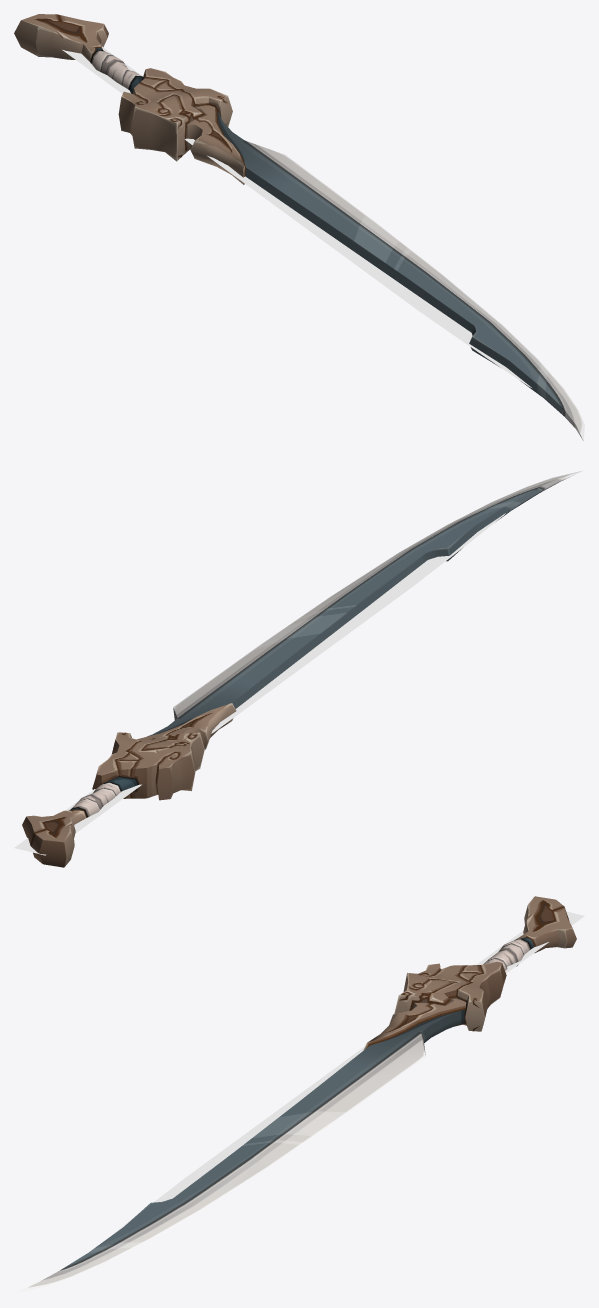
File: Equip_Sword_Sashimi.fbx
The picture shows the model from 3 angles, top to bottom: view 1: azimuth 30°, elevation 25°; view 2: azimuth 150°, elevation 25°; view 3: azimuth 330°, elevation 25°; orthographic projection. The views are drawn at different scales.
Visible parts, largest first — view 1: Equip_Sword_Sashimi_Model, Equip_Sword_Sashimi_Effect; view 2: Equip_Sword_Sashimi_Model, Equip_Sword_Sashimi_Effect; view 3: Equip_Sword_Sashimi_Model, Equip_Sword_Sashimi_Effect.
Part boxes in pixels (box(x1,y1,x2,y2)): Equip_Sword_Sashimi_Model: box(14, 14, 584, 441); Equip_Sword_Sashimi_Effect: box(62, 46, 531, 387); Equip_Sword_Sashimi_Model: box(22, 470, 584, 867); Equip_Sword_Sashimi_Effect: box(14, 513, 505, 855); Equip_Sword_Sashimi_Model: box(14, 896, 576, 1293); Equip_Sword_Sashimi_Effect: box(106, 911, 584, 1239).
Bounding box in the file's own units: 0.0995 × 0.0416 × 1.03.
2 materials, 1 textured.
